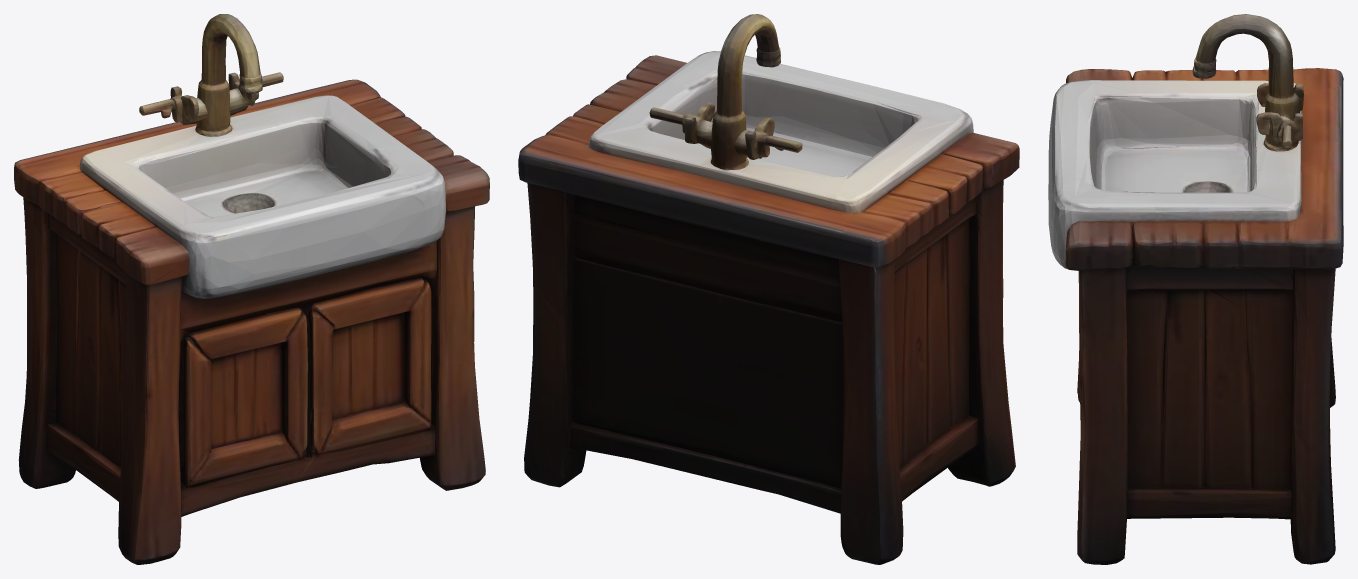
File: counter.glb
The picture shows the model from 3 angles, left to right: view 1: azimuth 30°, elevation 25°; view 2: azimuth 150°, elevation 25°; view 3: azimuth 270°, elevation 25°; orthographic projection. The views are drawn at different scales.
Visible parts, largest first — view 1: geometry_0; view 2: geometry_0; view 3: geometry_0.
Part boxes in pixels (x1,y1,x2,y2): geometry_0: (14,14,489,564); geometry_0: (518,14,1019,564); geometry_0: (1048,14,1343,564).
Bounding box in the file's own units: 0.8239 × 0.9992 × 0.5759.
1 material, 1 textured.
